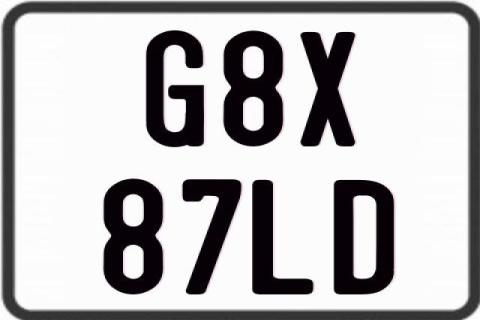0: (103, 178, 170, 294), (224, 28, 286, 146), (182, 180, 244, 296)
D: (334, 178, 396, 292)
G: (143, 28, 202, 146)
L: (250, 178, 316, 296)
X: (298, 31, 357, 151)
